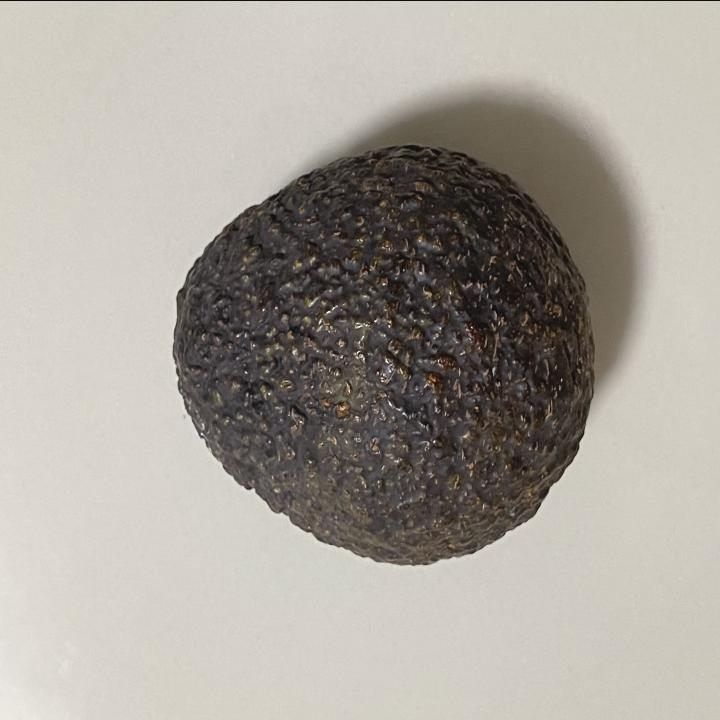Level2: (164, 133, 600, 579)
